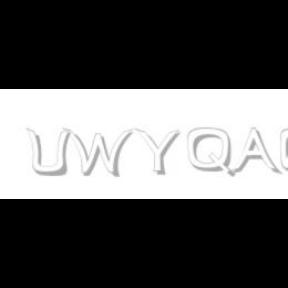A: (231, 128, 279, 176)
Q: (187, 128, 233, 178)
U: (25, 128, 70, 178)
W: (61, 128, 133, 178)
Y: (134, 128, 180, 176)
